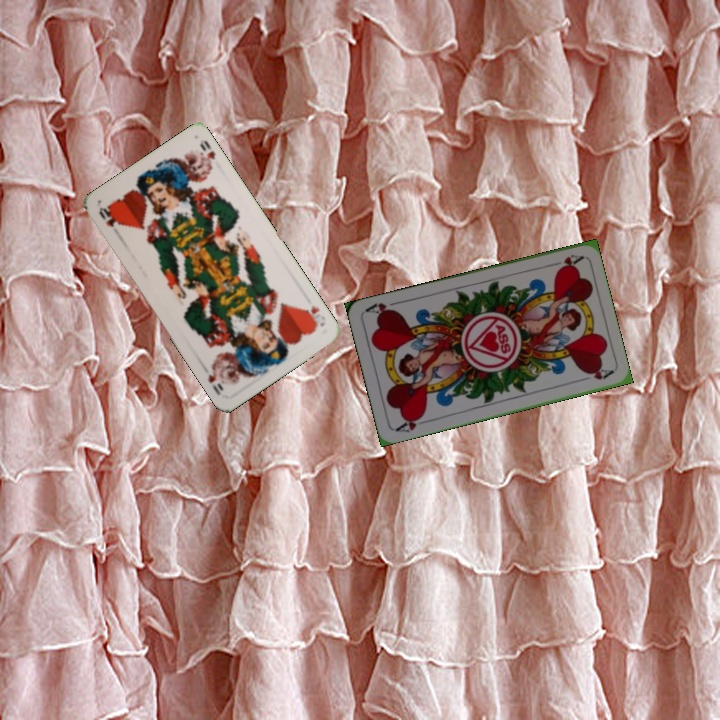HA: (392, 411, 432, 435), (544, 250, 585, 272)
HO: (300, 301, 328, 330), (95, 203, 122, 230)
